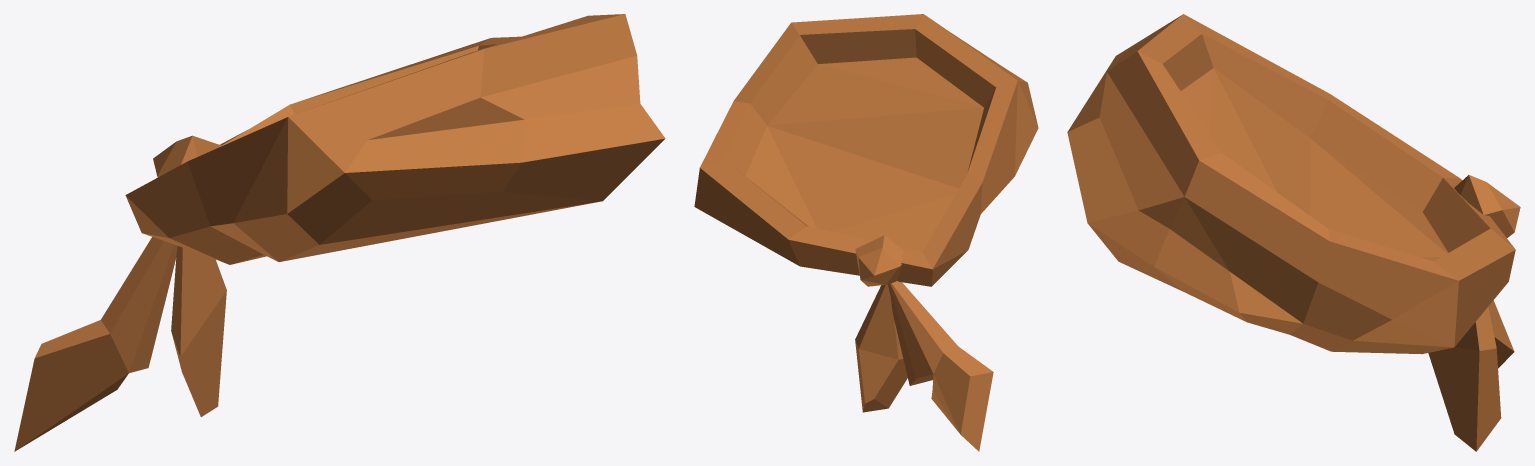
Rendered from SM_Chr_Attach_Bandana_02.fbx.
The picture shows the model from 3 angles, left to right: view 1: azimuth 30°, elevation 25°; view 2: azimuth 150°, elevation 25°; view 3: azimuth 270°, elevation 25°; orthographic projection. The views are drawn at different scales.
Parts seen in each view (by area): view 1: SM_Chr_Attach_Bandana_02; view 2: SM_Chr_Attach_Bandana_02; view 3: SM_Chr_Attach_Bandana_02.
Boxes of the visible parts, bbox=[...] form: SM_Chr_Attach_Bandana_02: bbox=[14, 14, 665, 451]; SM_Chr_Attach_Bandana_02: bbox=[694, 14, 1038, 451]; SM_Chr_Attach_Bandana_02: bbox=[1067, 14, 1520, 451].
Size of the model in its own units: 31.45 by 29.69 by 27.34.
